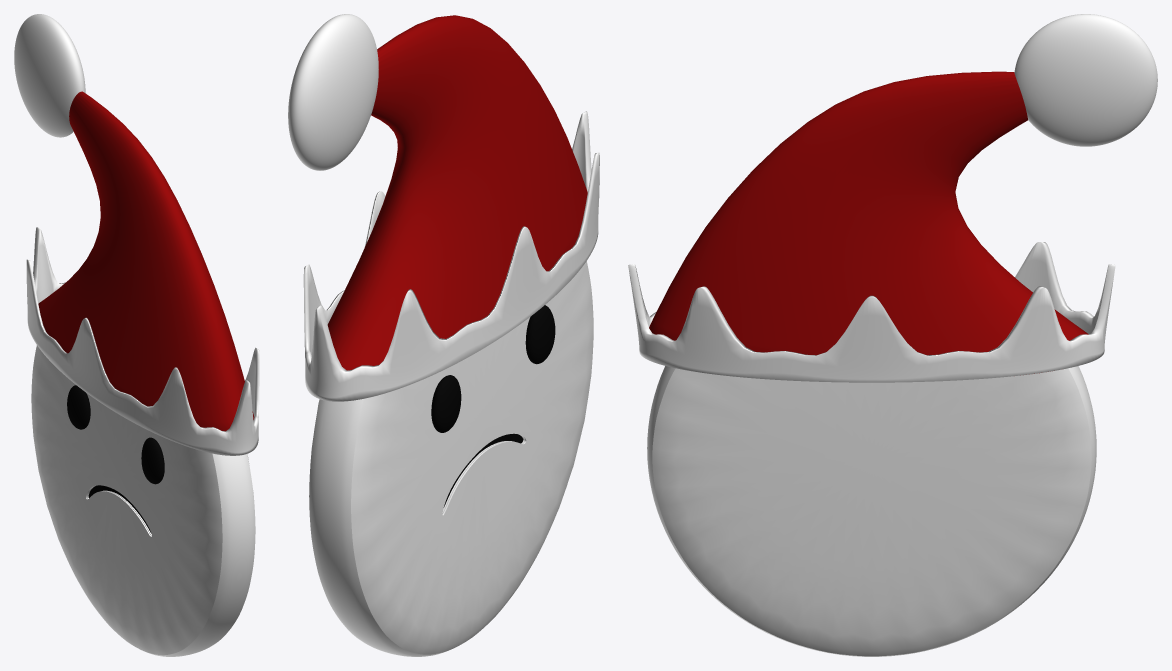
Rendered from sad_face.glb.
3 renders of one model, left to right at view 1: azimuth 30°, elevation 25°; view 2: azimuth 150°, elevation 25°; view 3: azimuth 270°, elevation 25°, orthographic. The views are drawn at different scales.
Visible parts, largest first — view 1: Circle.002_27, Circle_26, Sphere.002_31, Sphere.001_29; view 2: Circle.002_27, Circle_26, Sphere.001_29, Sphere.002_31; view 3: Circle.002_27, Circle_26.
Boxes of the visible parts, x1,y1,x2,y2 form: Circle.002_27: (14,14,259,455); Circle_26: (31,345,255,656); Sphere.002_31: (141,437,164,484); Sphere.001_29: (67,385,90,429); Circle.002_27: (288,14,599,401); Circle_26: (309,261,593,656); Sphere.001_29: (431,375,461,432); Sphere.002_31: (525,305,555,364); Circle.002_27: (628,14,1157,382); Circle_26: (647,366,1096,656).
Size of what is drawn, in the model's own units: 0.8376 by 3.84 by 2.89.
